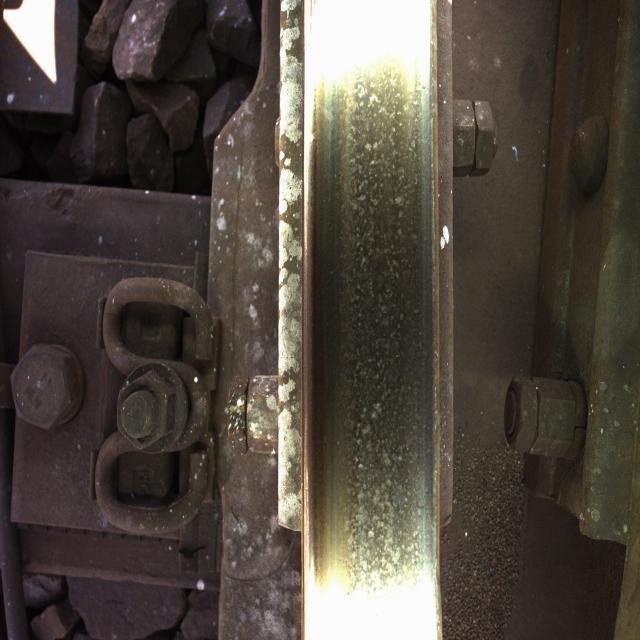scar: (328, 58, 428, 592)
